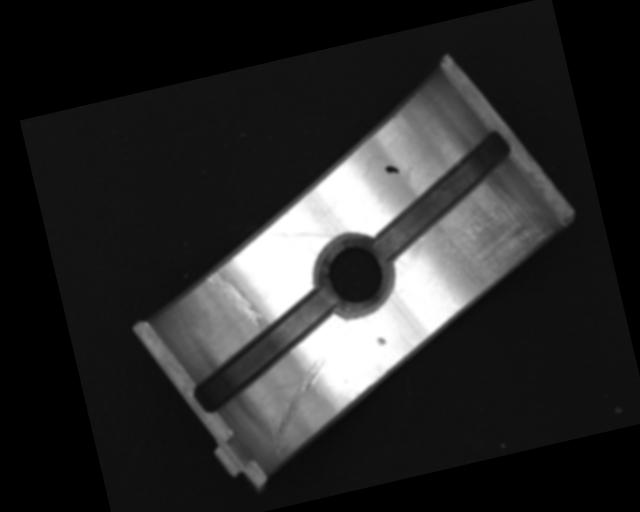blot: (383, 163, 400, 176)
bruise: (375, 335, 386, 346)
gap: (174, 287, 351, 414), (357, 128, 529, 258)
hole: (307, 225, 400, 322)
nick: (256, 356, 347, 458), (205, 262, 267, 339), (258, 216, 336, 254)
scratch: (430, 171, 567, 308)
